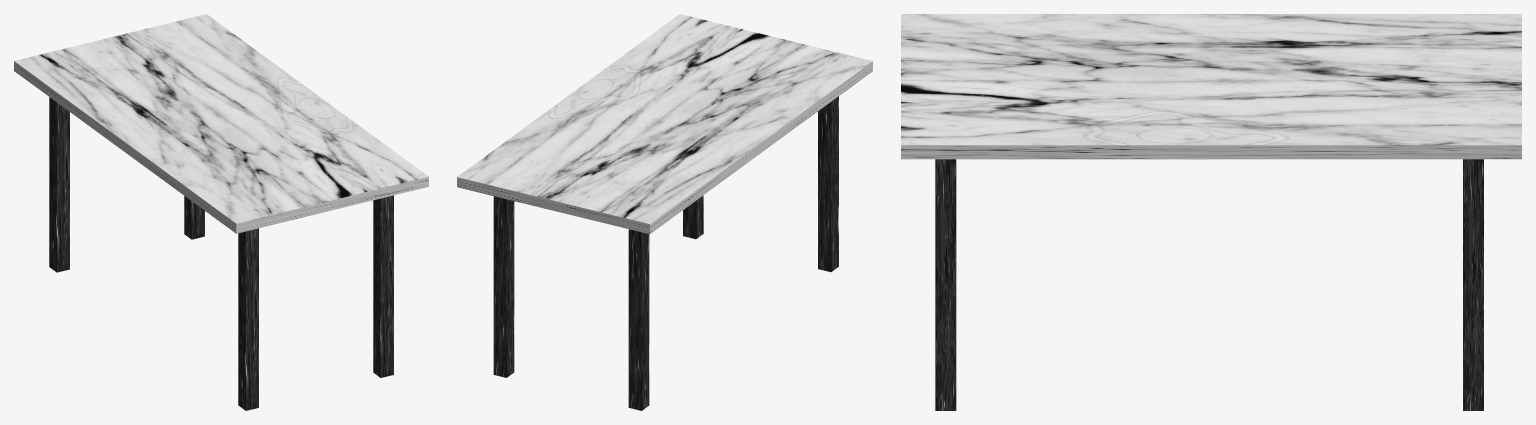
The model's file is mesa.glb.
The picture shows the model from 3 angles, left to right: view 1: azimuth 30°, elevation 25°; view 2: azimuth 150°, elevation 25°; view 3: azimuth 270°, elevation 25°; orthographic projection. The views are drawn at different scales.
Parts seen in each view (by area): view 1: Cube, Cube.002, Cube.001, Cube.004, Cube.003; view 2: Cube, Cube.004, Cube.003, Cube.001, Cube.002; view 3: Cube, Cube.002, Cube.003.
Part boxes in pixels (x1,y1,x2,y2): Cube: [14, 14, 428, 233]; Cube.002: [373, 195, 393, 377]; Cube.001: [238, 228, 258, 410]; Cube.004: [49, 97, 69, 272]; Cube.003: [184, 196, 204, 239]; Cube: [457, 14, 872, 234]; Cube.004: [628, 229, 649, 410]; Cube.003: [493, 196, 514, 377]; Cube.001: [818, 96, 838, 271]; Cube.002: [683, 195, 703, 239]; Cube: [901, 14, 1521, 159]; Cube.002: [935, 159, 956, 410]; Cube.003: [1463, 159, 1483, 410].
Bounding box in the file's own units: 2 × 2 × 4.
2 materials, 2 textured.
